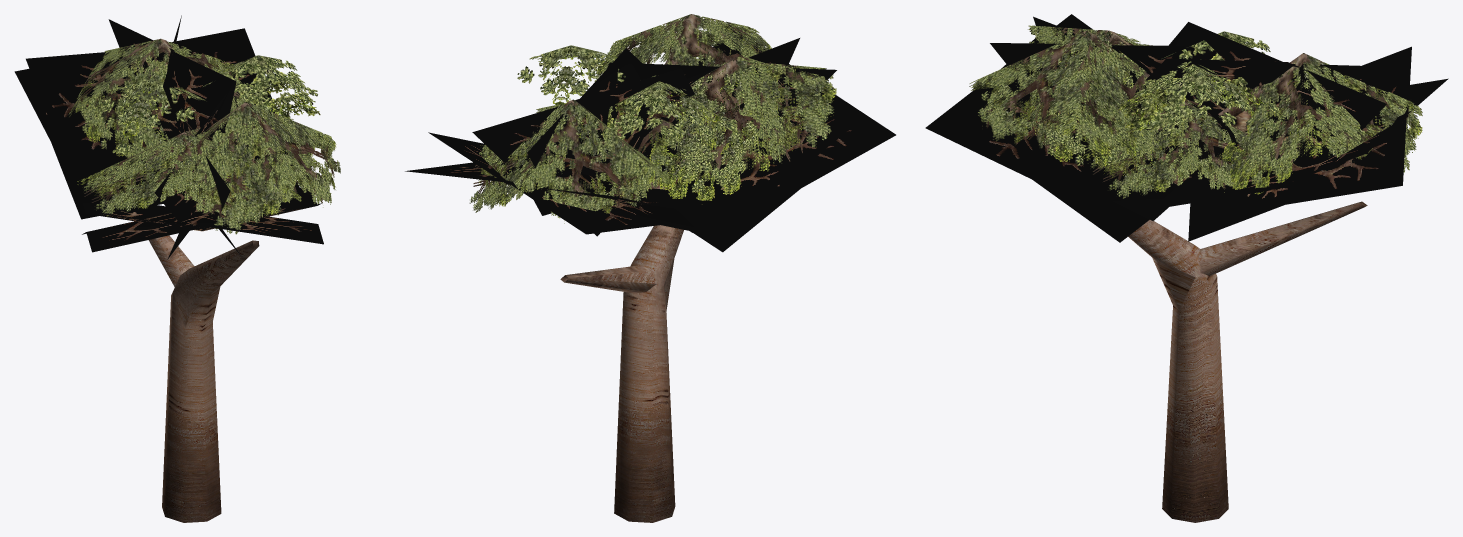
The model's file is flora_tree_baobab_2_young_v2.glb.
3 views of the same model, side by side, from view 1: azimuth 30°, elevation 25°; view 2: azimuth 150°, elevation 25°; view 3: azimuth 270°, elevation 25° (orthographic). The views are drawn at different scales.
Visible parts, largest first — view 1: flora_tree_baobab_2_young_v2_part2, flora_tree_baobab_2_young_v2_part1, flora_tree_baobab_2_young_v2_part0; view 2: flora_tree_baobab_2_young_v2_part2, flora_tree_baobab_2_young_v2_part1, flora_tree_baobab_2_young_v2_part0; view 3: flora_tree_baobab_2_young_v2_part2, flora_tree_baobab_2_young_v2_part1, flora_tree_baobab_2_young_v2_part0.
Boxes of the visible parts, x1=… form: flora_tree_baobab_2_young_v2_part2: x1=68, y1=38, x2=340, y2=234; flora_tree_baobab_2_young_v2_part1: x1=14, y1=15, x2=323, y2=259; flora_tree_baobab_2_young_v2_part0: x1=148, y1=235, x2=259, y2=522; flora_tree_baobab_2_young_v2_part2: x1=469, y1=14, x2=836, y2=223; flora_tree_baobab_2_young_v2_part1: x1=405, y1=31, x2=895, y2=252; flora_tree_baobab_2_young_v2_part0: x1=560, y1=225, x2=683, y2=522; flora_tree_baobab_2_young_v2_part2: x1=969, y1=25, x2=1422, y2=198; flora_tree_baobab_2_young_v2_part1: x1=925, y1=14, x2=1448, y2=242; flora_tree_baobab_2_young_v2_part0: x1=1128, y1=201, x2=1367, y2=522.
Size of the model in its own units: 11.78 by 15.61 by 15.41.
3 materials, 3 textured.
